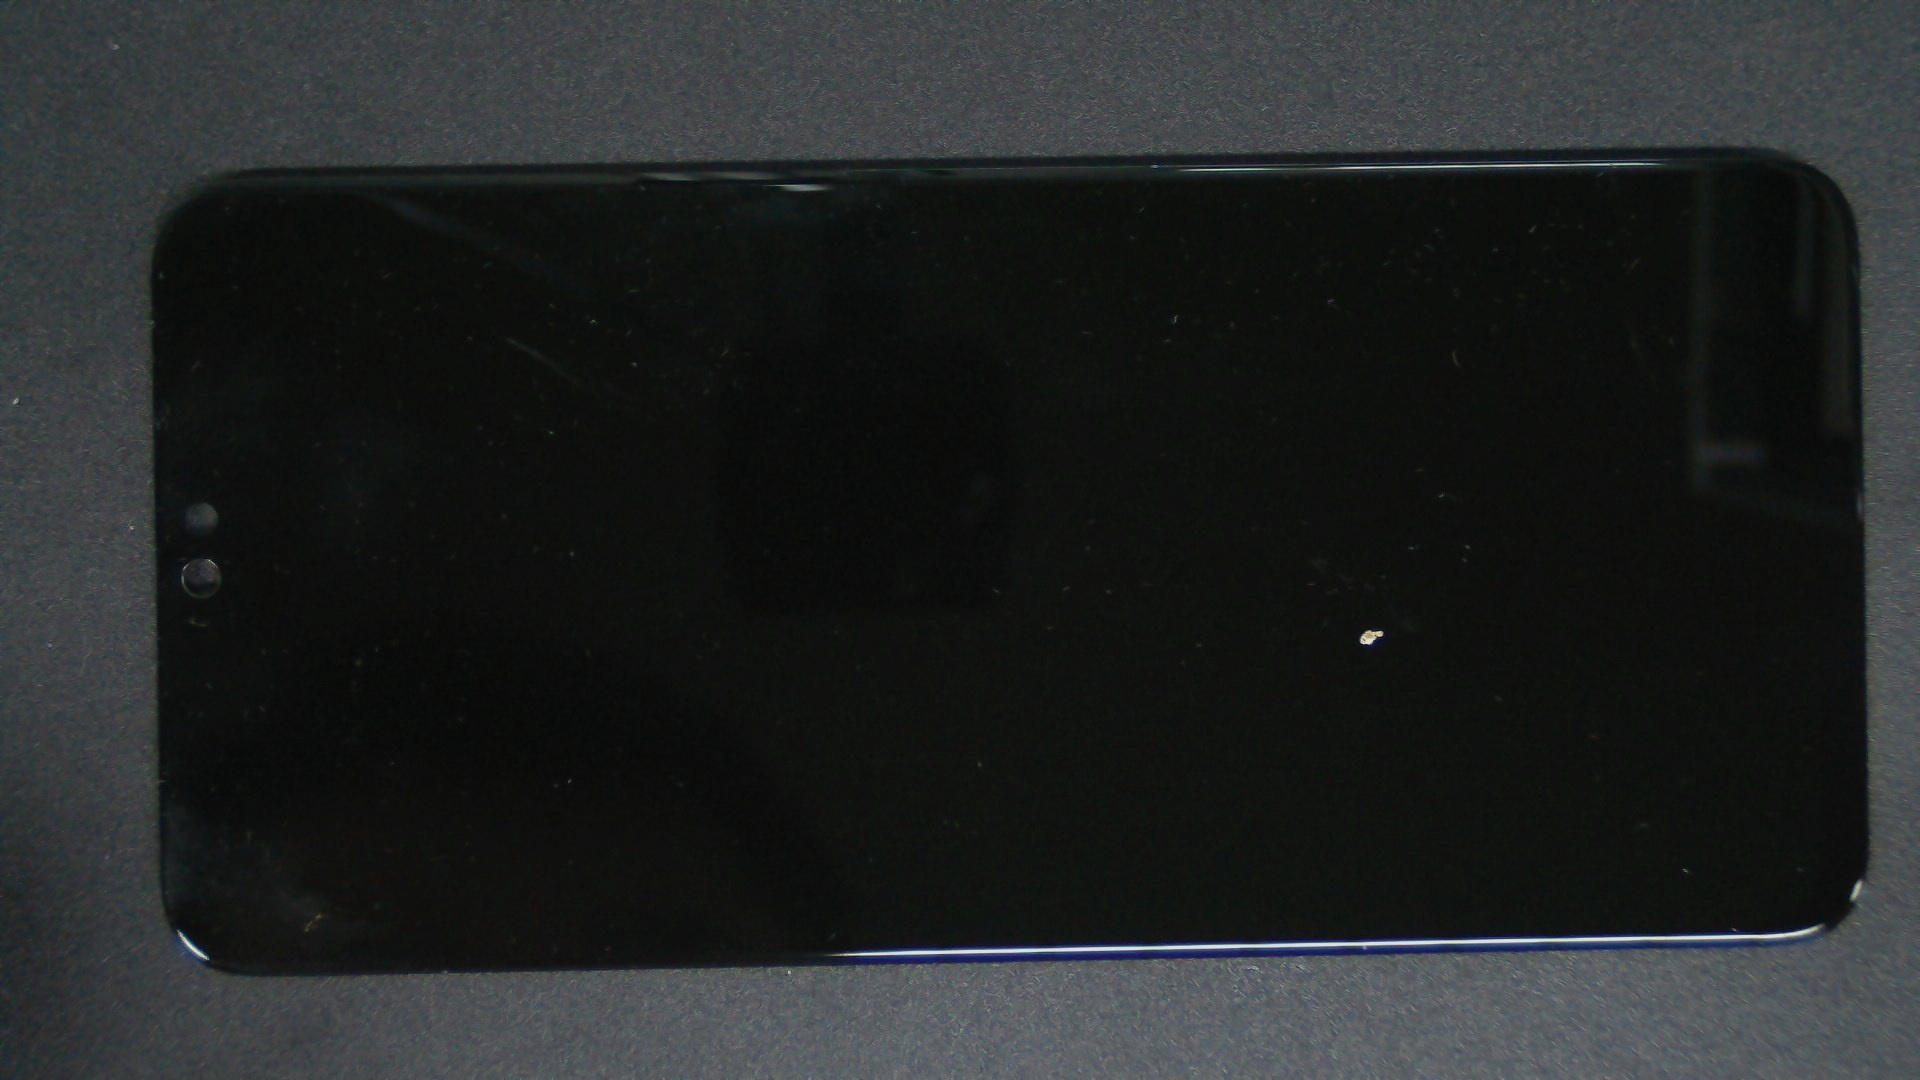oil: (686, 314, 1920, 944)
